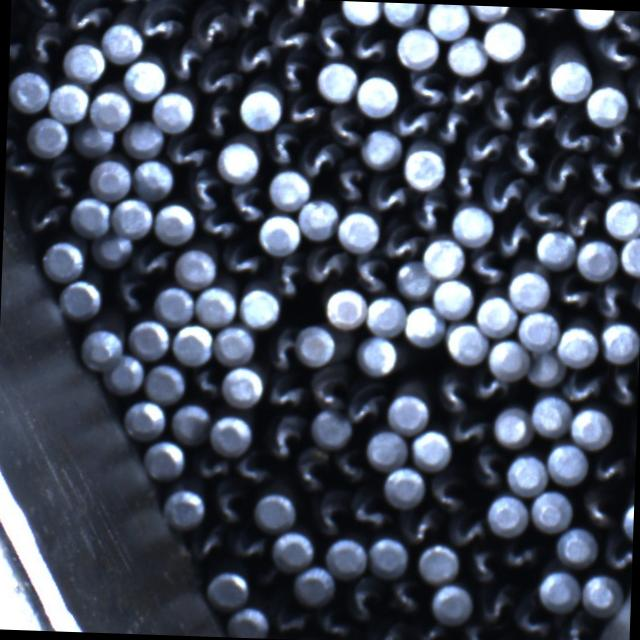tool: (236, 84, 282, 130), (402, 144, 447, 190), (530, 488, 574, 533), (444, 321, 488, 365), (324, 284, 368, 328), (356, 73, 400, 117), (536, 569, 580, 613), (162, 486, 204, 532), (529, 392, 571, 438), (580, 572, 622, 618), (257, 211, 301, 254), (570, 405, 613, 449), (366, 534, 409, 578), (486, 336, 530, 379), (487, 492, 530, 536), (409, 428, 452, 472), (153, 200, 196, 244), (210, 413, 253, 457), (43, 239, 87, 282), (59, 276, 102, 320), (556, 323, 598, 368), (546, 441, 588, 486), (356, 334, 401, 376), (295, 323, 337, 368), (151, 88, 194, 131), (221, 365, 264, 408), (82, 327, 125, 370), (482, 18, 526, 60), (404, 302, 446, 346), (584, 84, 628, 126), (548, 58, 592, 100), (576, 236, 618, 280), (172, 322, 214, 366), (90, 86, 134, 128), (8, 70, 50, 114), (207, 568, 251, 610), (122, 58, 166, 100), (396, 26, 440, 68), (492, 404, 534, 448), (387, 392, 431, 434), (336, 208, 380, 250), (422, 235, 466, 277), (252, 490, 296, 532), (554, 525, 598, 567), (474, 294, 517, 336), (68, 194, 110, 237), (123, 398, 166, 440), (173, 246, 216, 288), (418, 542, 461, 584), (451, 202, 494, 244), (217, 140, 260, 182), (506, 452, 548, 495), (87, 160, 130, 202), (324, 536, 367, 578), (170, 401, 212, 444), (26, 115, 70, 156), (270, 531, 314, 572), (63, 41, 107, 82), (317, 58, 359, 100), (359, 127, 401, 169), (430, 584, 472, 626), (516, 308, 558, 350), (238, 286, 280, 328), (268, 167, 310, 209), (112, 197, 154, 239), (384, 466, 426, 508), (536, 226, 578, 268), (128, 318, 170, 360), (144, 438, 186, 480), (132, 157, 174, 199), (195, 285, 238, 326), (365, 294, 406, 337), (299, 197, 340, 240), (100, 20, 143, 61), (600, 318, 640, 362), (122, 120, 166, 160), (48, 80, 90, 121), (508, 268, 550, 309), (214, 324, 256, 365), (146, 361, 188, 402), (366, 428, 408, 469), (295, 564, 338, 604), (152, 282, 194, 322), (446, 36, 488, 76), (434, 276, 476, 316), (104, 352, 144, 394), (310, 408, 352, 448), (71, 119, 113, 159), (93, 234, 135, 272), (428, 4, 472, 39), (396, 260, 434, 300), (604, 196, 640, 238), (227, 606, 269, 638), (381, 2, 424, 24), (619, 235, 640, 277), (340, 1, 380, 23), (571, 9, 613, 27), (468, 5, 511, 19), (622, 497, 634, 540)
tool_b: (261, 412, 307, 463), (136, 0, 186, 43), (346, 486, 392, 532), (191, 0, 236, 47), (196, 52, 242, 96), (476, 580, 518, 628), (290, 444, 332, 492), (520, 186, 564, 231), (482, 168, 525, 214), (344, 382, 387, 428), (44, 153, 87, 199), (21, 196, 68, 238), (198, 92, 240, 138), (108, 270, 150, 316), (346, 576, 386, 624), (311, 488, 350, 537), (24, 21, 65, 67), (589, 30, 636, 70), (348, 253, 392, 295), (403, 68, 448, 109), (309, 365, 350, 410), (164, 38, 204, 84), (379, 220, 422, 262), (426, 471, 468, 514), (227, 182, 269, 224), (553, 114, 596, 155), (410, 190, 450, 234), (564, 194, 604, 238), (574, 489, 618, 529), (208, 482, 248, 526), (332, 157, 368, 205), (264, 324, 300, 372), (298, 138, 339, 180), (385, 575, 427, 616), (233, 36, 276, 76), (305, 246, 348, 286), (349, 24, 392, 64), (326, 106, 365, 150), (274, 49, 313, 93), (468, 445, 506, 490), (434, 370, 472, 415), (165, 133, 210, 171), (506, 130, 544, 175), (312, 13, 349, 59), (464, 124, 506, 164), (540, 154, 580, 196), (368, 175, 410, 215), (220, 240, 264, 278), (63, 0, 112, 34), (270, 256, 306, 302), (267, 14, 310, 52), (501, 57, 545, 94), (187, 166, 224, 210), (330, 444, 370, 484), (492, 218, 532, 258), (468, 248, 508, 288), (511, 600, 551, 640), (232, 448, 274, 486), (446, 160, 484, 202), (484, 88, 520, 132), (560, 368, 602, 405), (131, 243, 173, 280), (263, 372, 306, 408), (582, 155, 618, 198), (552, 272, 592, 310), (588, 450, 630, 486), (227, 526, 269, 562), (604, 366, 638, 410), (599, 121, 638, 159), (400, 507, 440, 544), (595, 278, 630, 320), (447, 412, 490, 446), (187, 523, 225, 561), (520, 96, 560, 132), (264, 126, 300, 166), (284, 92, 324, 128), (445, 511, 486, 546), (390, 105, 432, 139), (270, 603, 312, 637), (196, 208, 238, 242), (432, 106, 469, 144), (501, 536, 542, 570), (466, 543, 501, 582), (446, 76, 486, 110), (470, 370, 510, 404), (5, 142, 39, 182), (190, 449, 231, 482), (600, 536, 632, 576), (188, 365, 224, 400), (316, 607, 354, 640), (232, 0, 271, 32), (363, 618, 413, 640), (555, 614, 595, 640), (611, 10, 640, 45), (519, 6, 568, 26), (616, 157, 640, 196), (21, 0, 64, 19), (280, 0, 326, 17), (459, 622, 493, 640), (629, 72, 640, 116), (106, 0, 159, 4)
